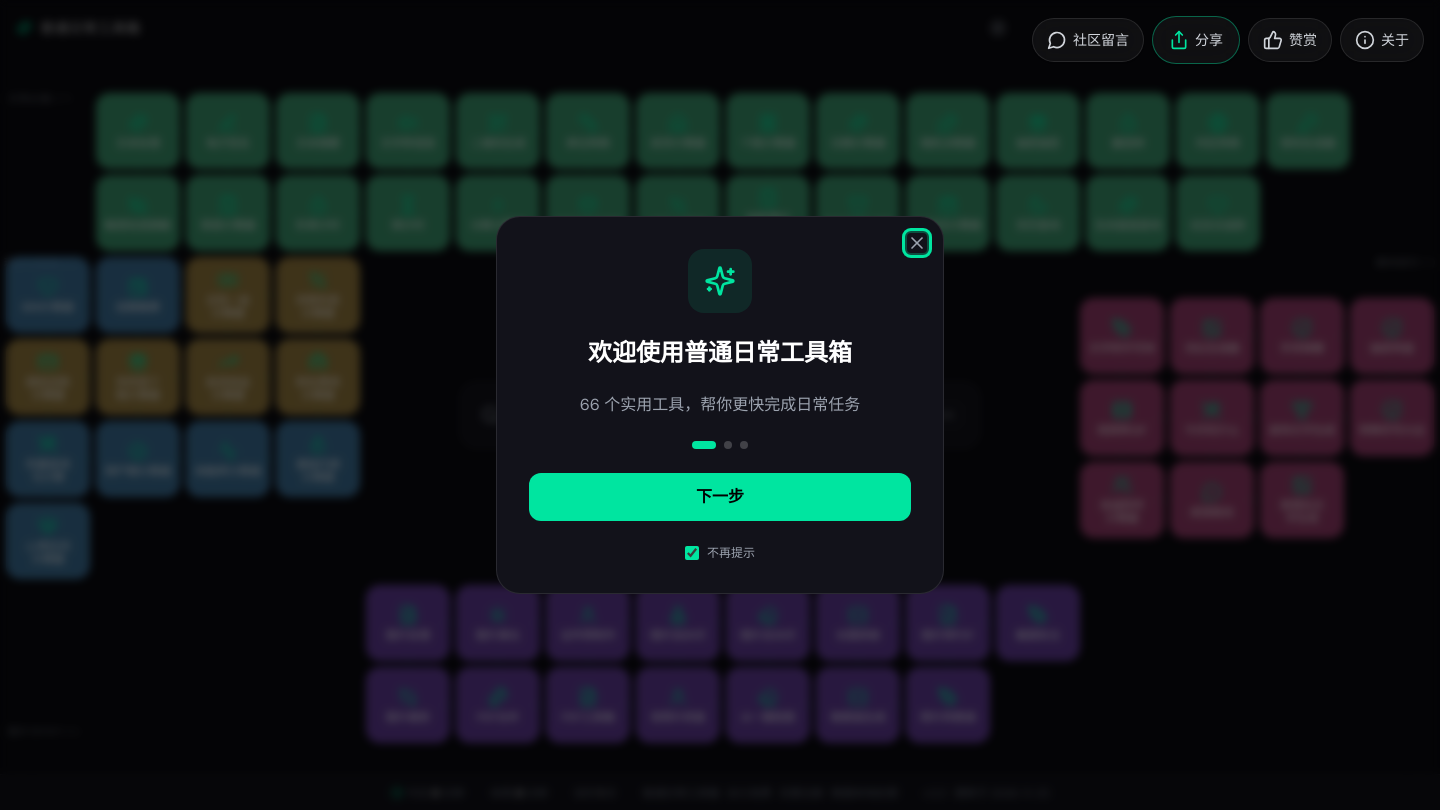
Scenario: 路由集成 (HashRouter) › C2 关于/隐私入口（已上移至右上角 LeadBar） › LeadBar「关于」菜单包含「关于 / 隐私」两项
Click the button named "关于".
click(1382, 40)  # box [1340, 18, 1424, 62]
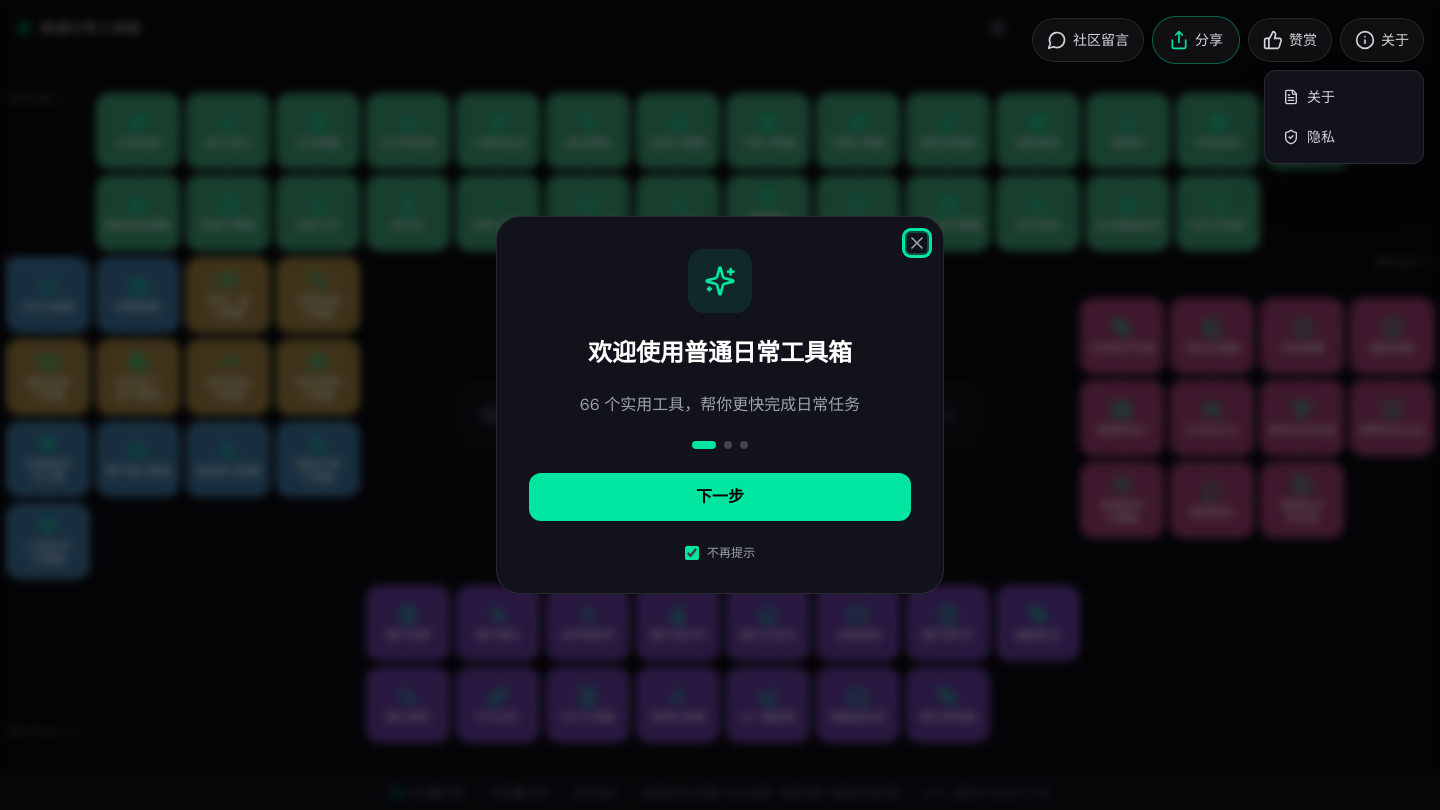
Expected: the menu is shown, [1264, 70, 1424, 164]
